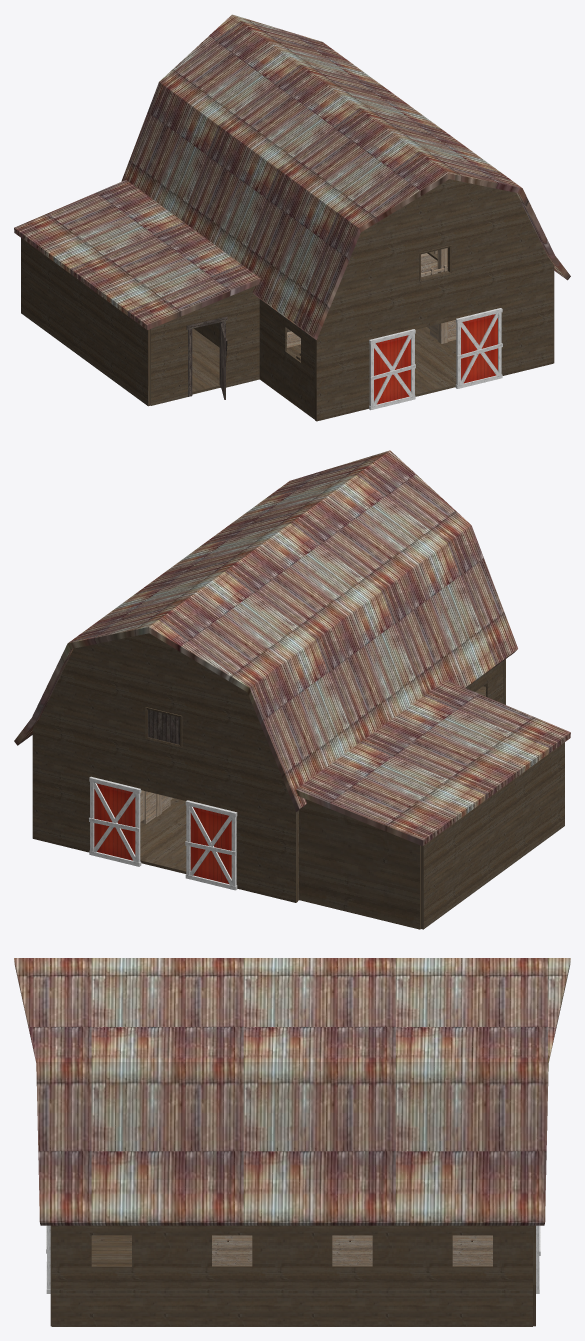
The model's file is Barn.fbx.
3 renders of one model, top to bottom at view 1: azimuth 30°, elevation 25°; view 2: azimuth 150°, elevation 25°; view 3: azimuth 270°, elevation 25°, orthographic. The views are drawn at different scales.
Parts seen in each view (by area): view 1: Barn; view 2: Barn; view 3: Barn.
Boxes of the visible parts, x1,y1,x2,y2 form: Barn: [14, 14, 570, 421]; Barn: [14, 450, 570, 929]; Barn: [14, 958, 570, 1326].
Bounding box in the file's own units: 574 × 347 × 593.
